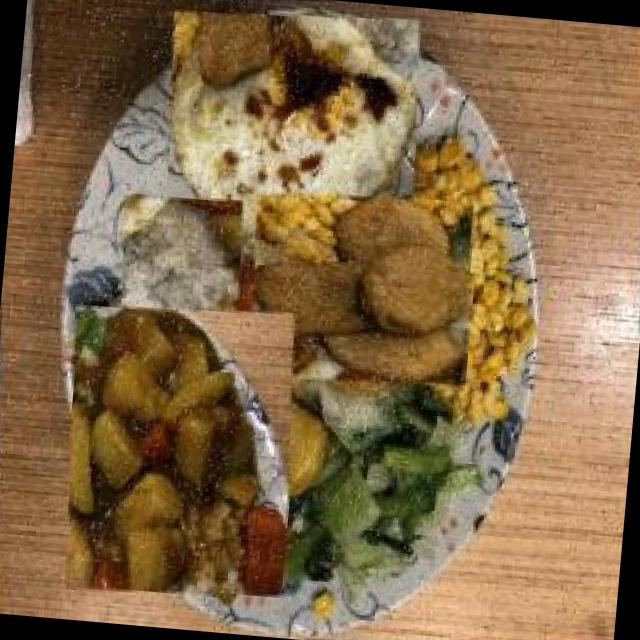chicken_nuggets: (246, 175, 474, 402)
curry: (51, 294, 310, 608)
fried_eggs: (153, 0, 434, 270)
rice: (108, 194, 252, 338)
